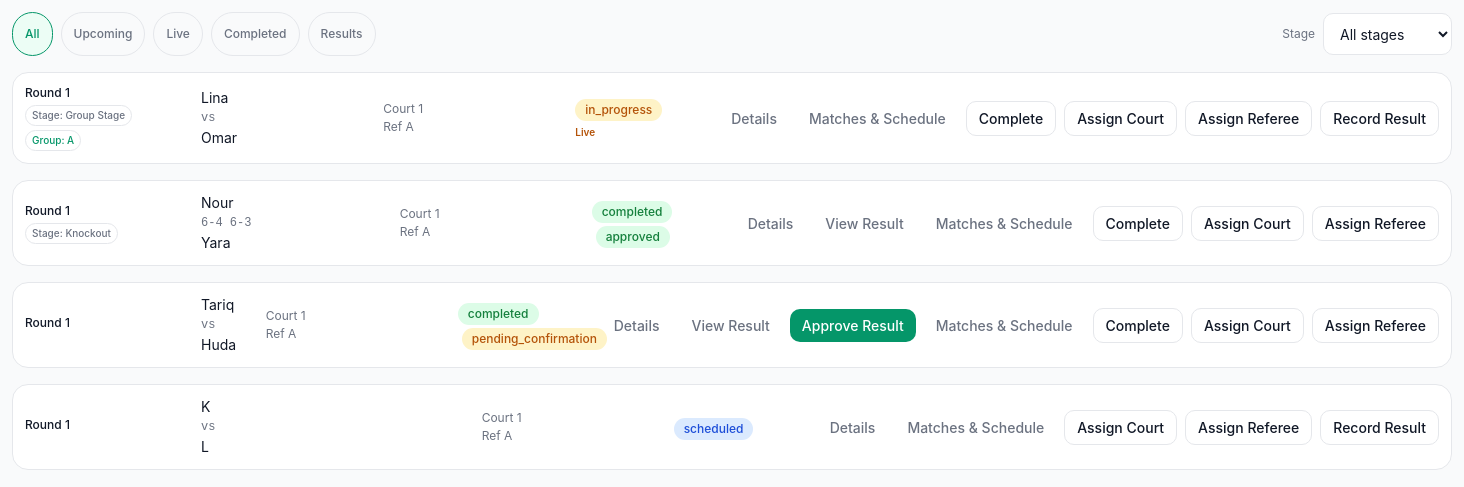
Test: Tournament Hub MatchesManager (Step 3C) › 16. stage filter (client-side) narrows by stage
The width and height of the screenshot is (1464, 487).
Select "Knockout" in the dropdown labelled "Stage" at (1388, 34), box [1323,13,1452,55]
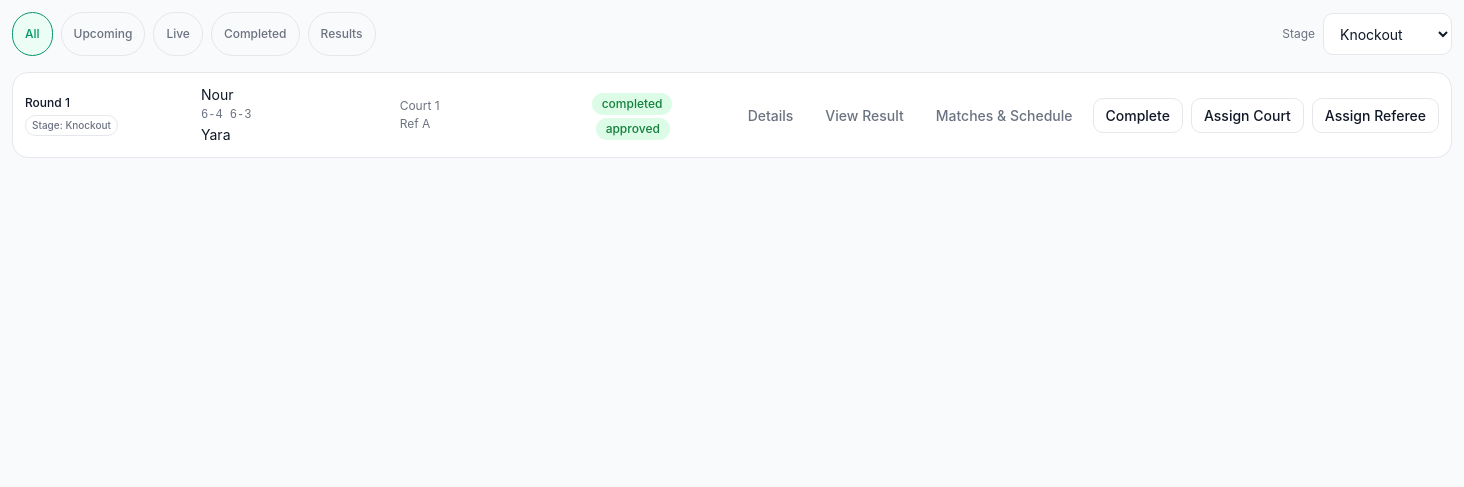
Expected: the text "Nour" is shown, [201,86,234,103]
Now the text "Lina" is gone
